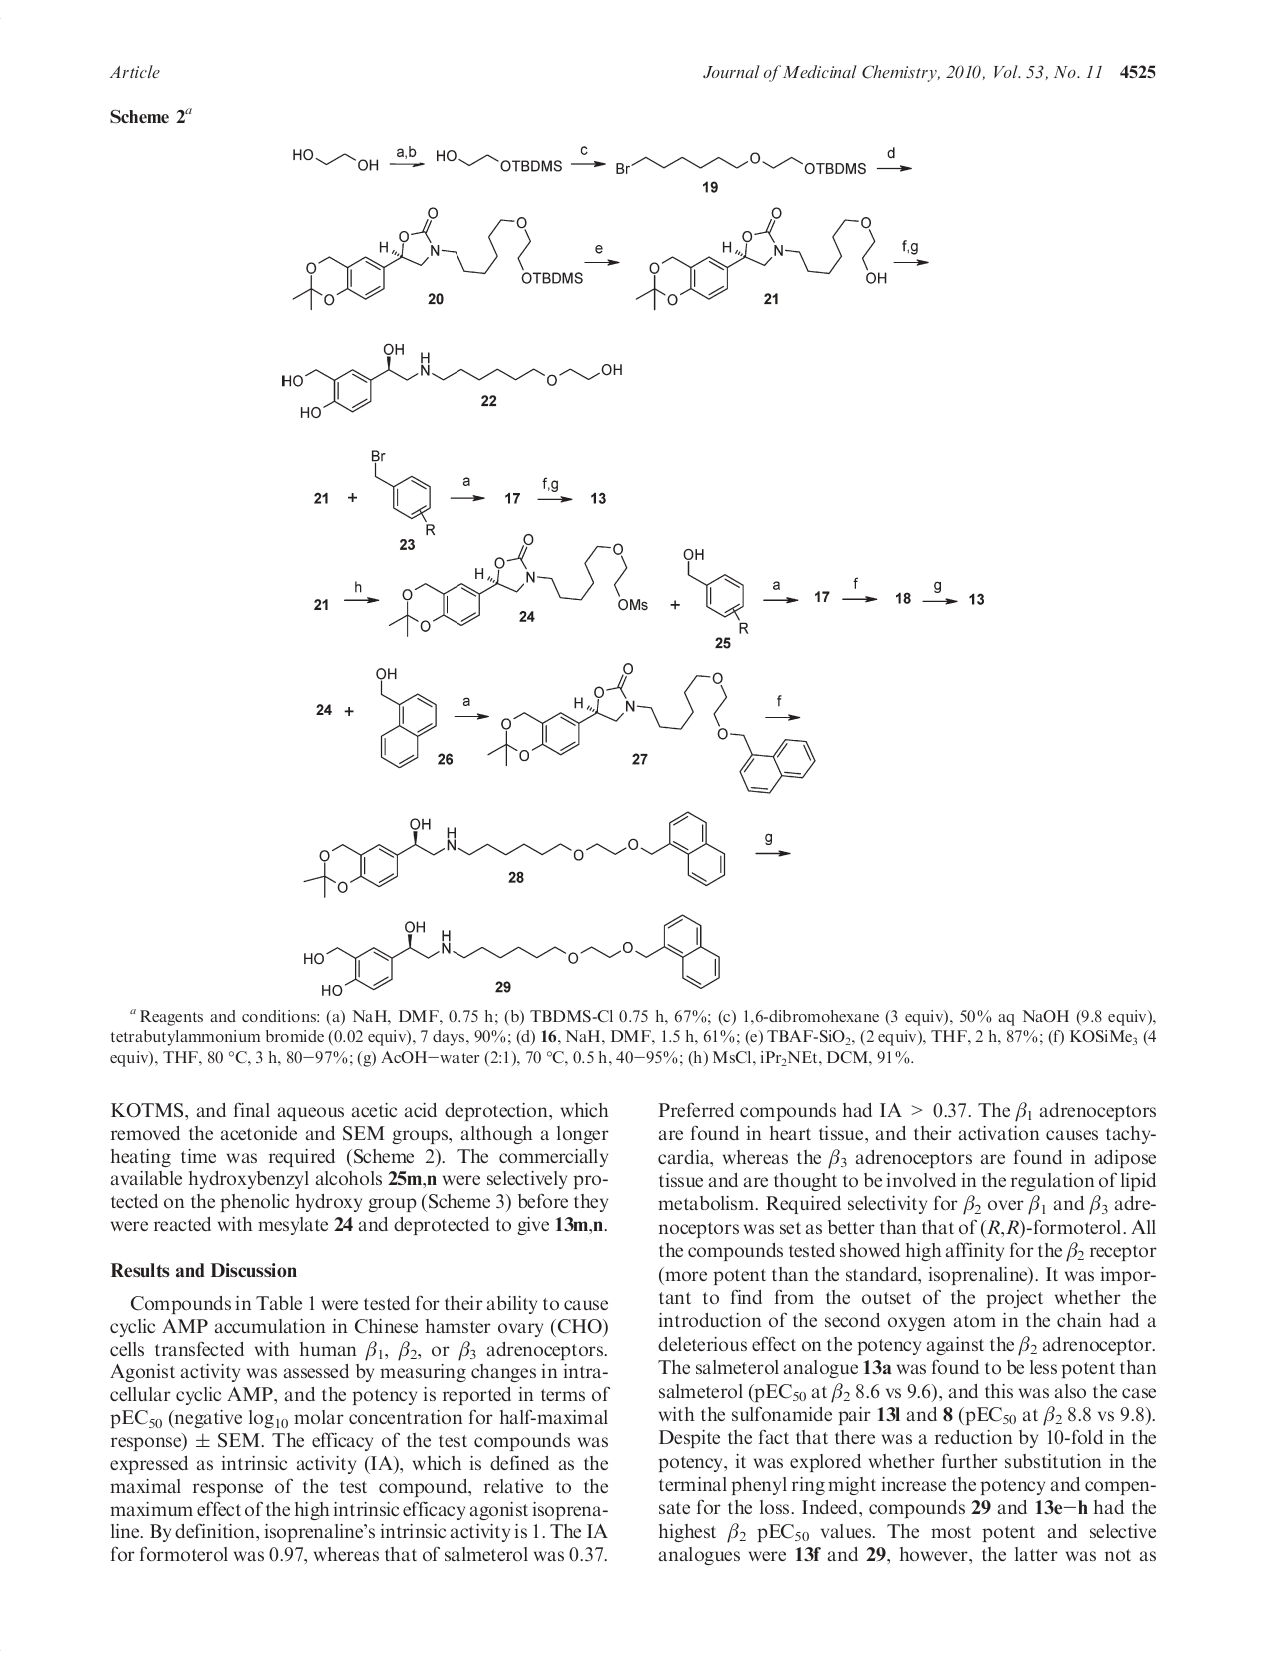exist_molecular: (485, 661, 821, 797), (302, 806, 729, 902), (301, 910, 723, 997), (387, 532, 652, 640), (281, 342, 626, 422), (633, 215, 890, 313), (293, 213, 535, 313), (291, 146, 563, 176), (614, 150, 868, 181), (368, 664, 440, 769), (677, 543, 754, 633), (364, 446, 440, 536)
